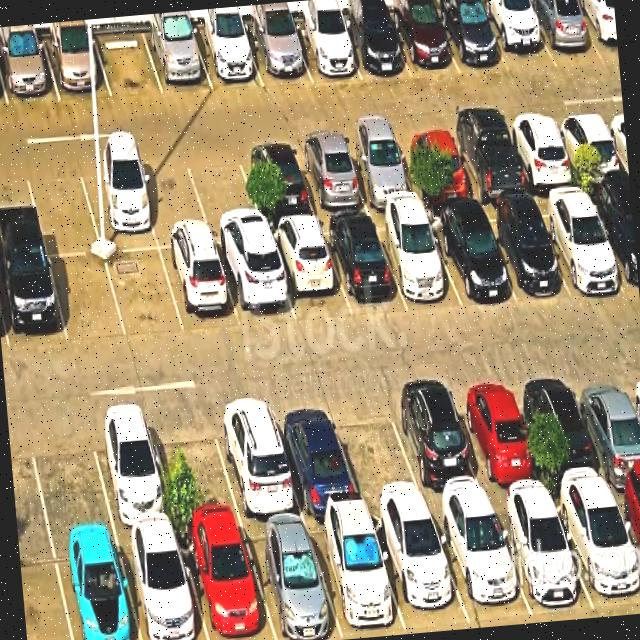empty: (328, 390, 426, 508), (147, 407, 242, 528), (25, 413, 114, 539), (184, 147, 266, 244), (134, 154, 212, 248), (24, 162, 101, 255), (105, 249, 184, 339), (49, 254, 126, 344), (93, 29, 163, 97)
occupied: (385, 382, 488, 507), (305, 513, 406, 639), (490, 497, 594, 616), (240, 520, 343, 640), (430, 502, 532, 623), (448, 376, 546, 500), (369, 510, 470, 629), (209, 395, 303, 522), (551, 487, 640, 616), (177, 524, 275, 640), (86, 408, 177, 532), (518, 371, 610, 493), (268, 396, 362, 515), (116, 529, 207, 640), (532, 193, 626, 294), (52, 534, 140, 640), (476, 204, 568, 301), (425, 209, 516, 307), (266, 221, 351, 324), (320, 216, 407, 315), (372, 213, 462, 307), (569, 368, 640, 486), (77, 158, 158, 252), (160, 245, 241, 333), (215, 241, 296, 327), (446, 123, 529, 202), (0, 253, 67, 350), (237, 143, 316, 223), (291, 138, 369, 216), (340, 134, 419, 209), (394, 129, 474, 202), (503, 116, 579, 192), (478, 0, 556, 73), (522, 0, 604, 67), (552, 112, 627, 185), (586, 190, 639, 293), (387, 4, 459, 78), (434, 2, 508, 74), (337, 11, 411, 79), (142, 27, 213, 94), (191, 25, 263, 91), (42, 33, 111, 101), (289, 18, 361, 82), (244, 22, 311, 86), (0, 38, 59, 105), (572, 0, 619, 62), (610, 483, 640, 565)
